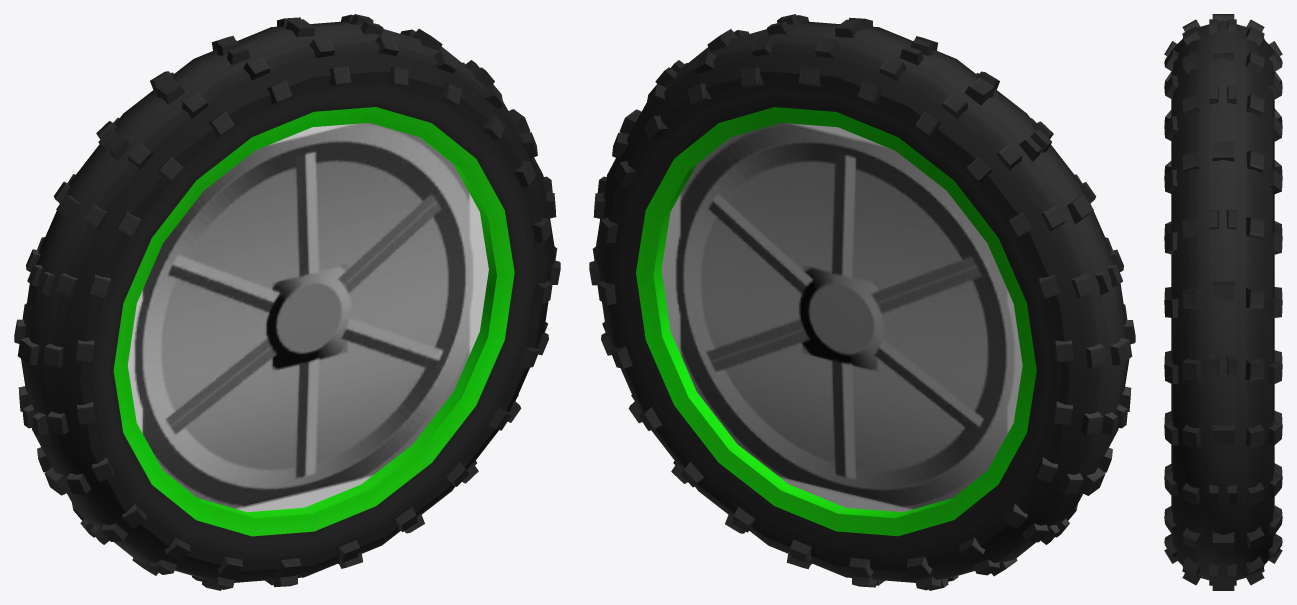
Rendered from FrontWheel_rally.fbx.
3 views of the same model, side by side, from view 1: azimuth 30°, elevation 25°; view 2: azimuth 150°, elevation 25°; view 3: azimuth 270°, elevation 25° (orthographic). The views are drawn at different scales.
Visible parts, largest first — view 1: rally_wheelF_1.001; view 2: rally_wheelF_1.001; view 3: rally_wheelF_1.001.
Boxes of the visible parts, <box> form: rally_wheelF_1.001: <box>14,14,560,590</box>; rally_wheelF_1.001: <box>589,14,1135,590</box>; rally_wheelF_1.001: <box>1164,14,1282,590</box>.
Size of the model in its own units: 55.09 by 55.09 by 11.28.
